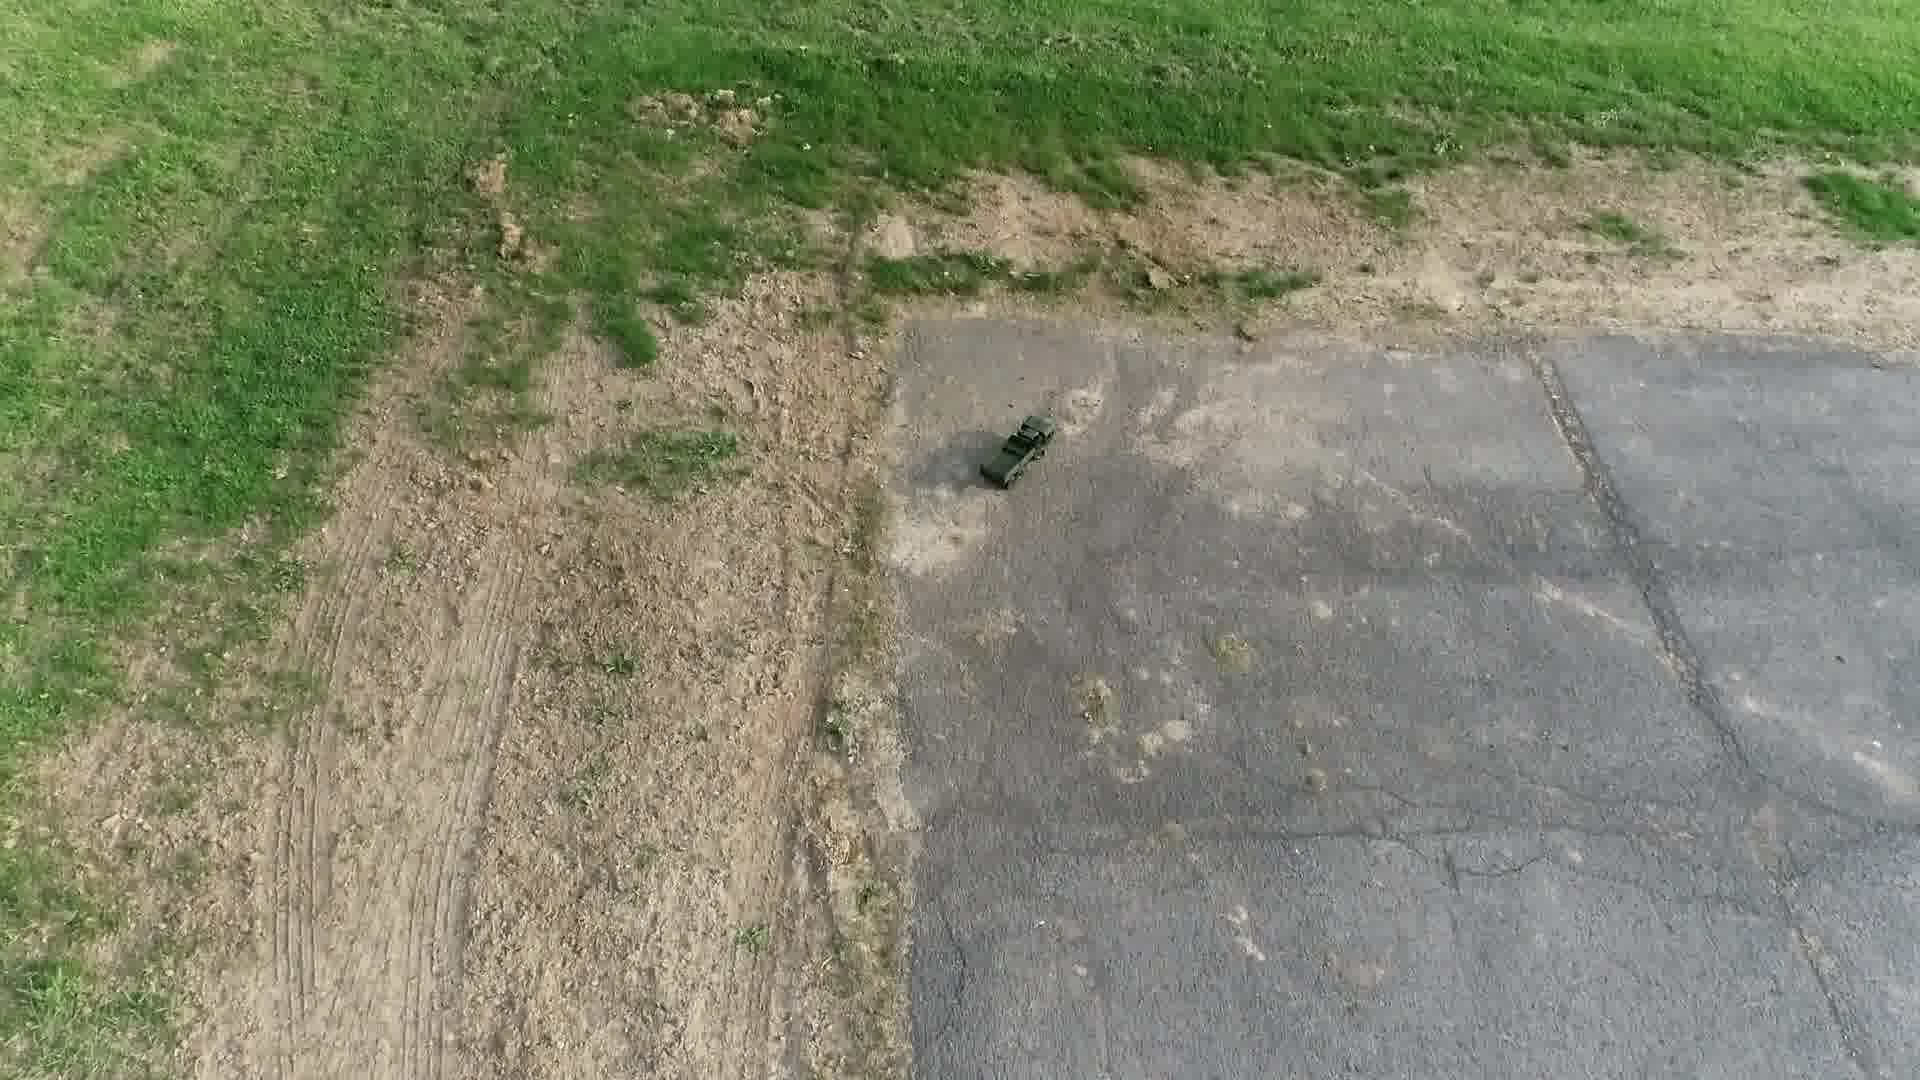transporter9: (977, 411, 1060, 492)
